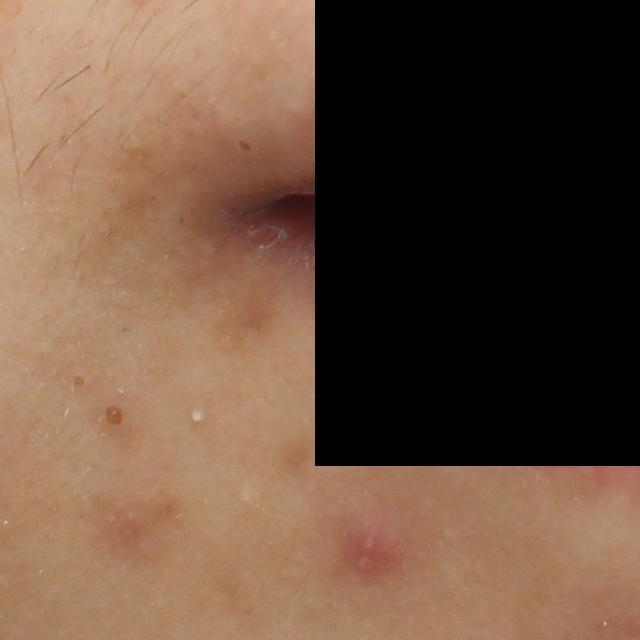comedo: (99, 396, 132, 435), (66, 368, 94, 394), (230, 136, 257, 156), (187, 406, 207, 426)
papule: (336, 508, 413, 583)
